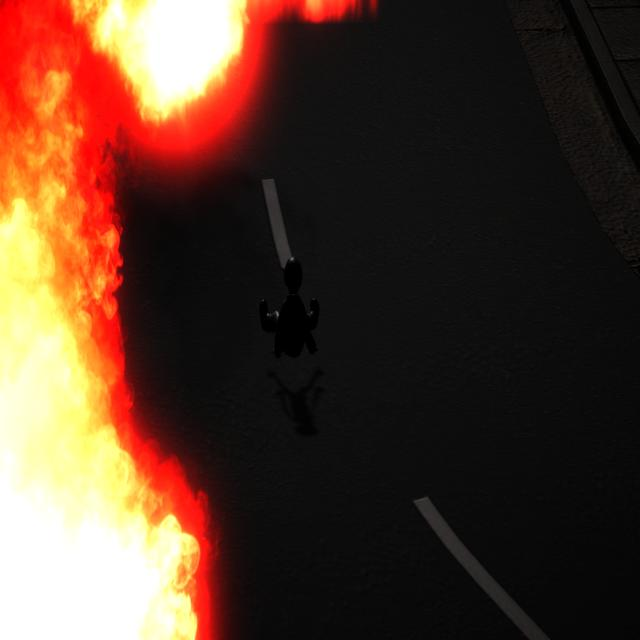Human: (258, 244, 323, 364)
